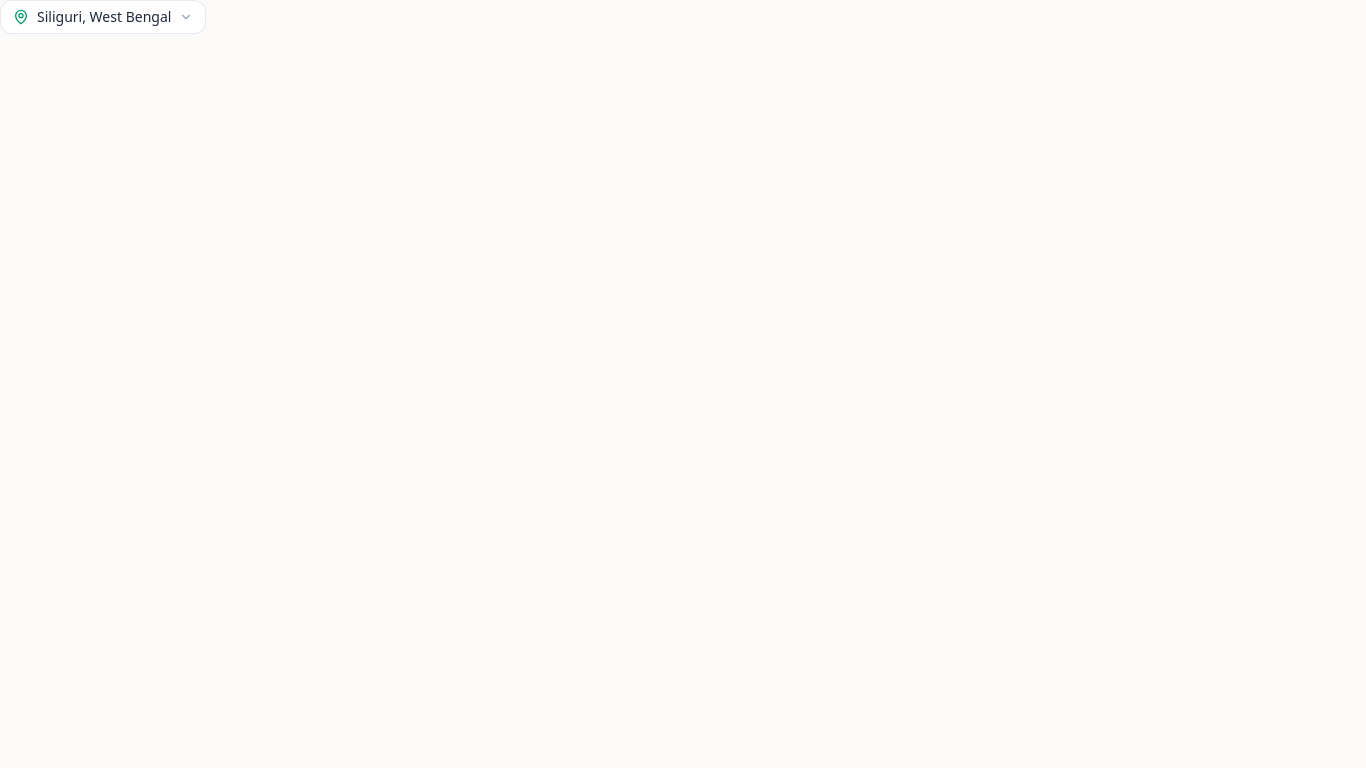
it: Dashboard Foundation & Experience › supports interactive location selection with Indian cities
The width and height of the screenshot is (1366, 768).
# Click trigger button
Click the button with aria-label "Current location is Siliguri" at [103, 17], box [0,0,206,34]
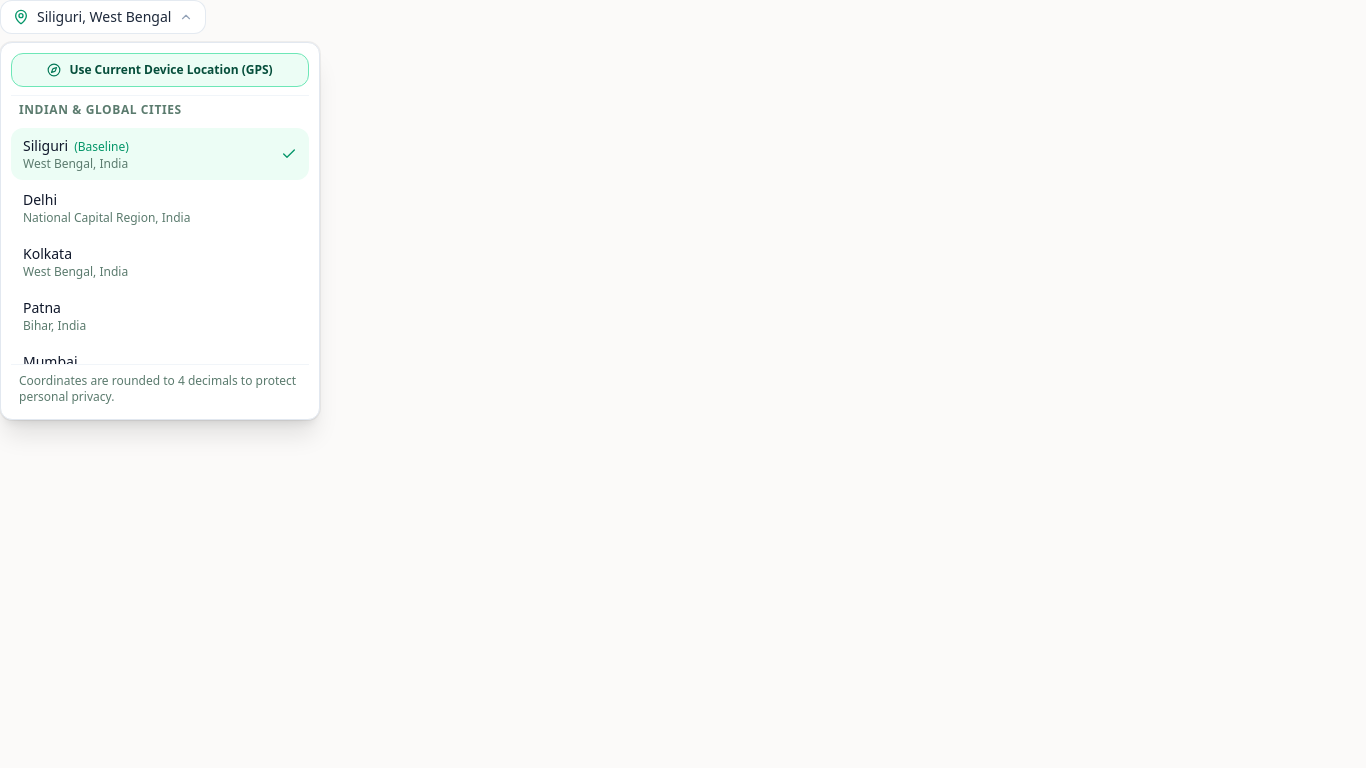
Expected: the list is shown, [11,124,309,364]
Expected: the text "Delhi" is shown, [23,190,57,209]
Expected: the text "Kolkata" is shown, [23,244,72,263]
